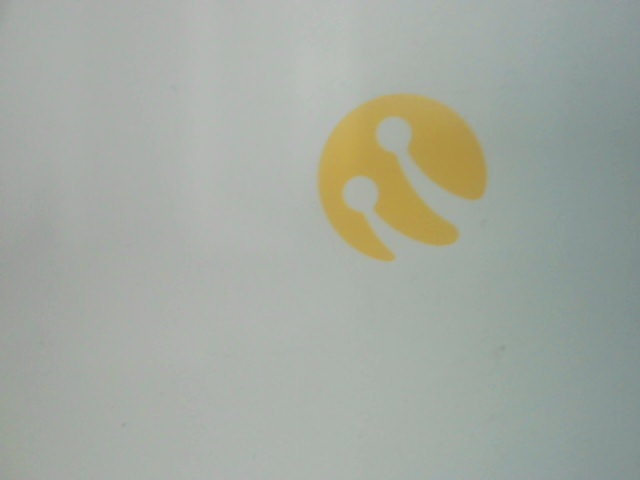AV_H3600Yellow: (290, 80, 508, 258)
